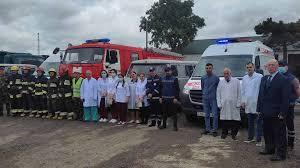Fire-engine: (60, 40, 187, 75)
